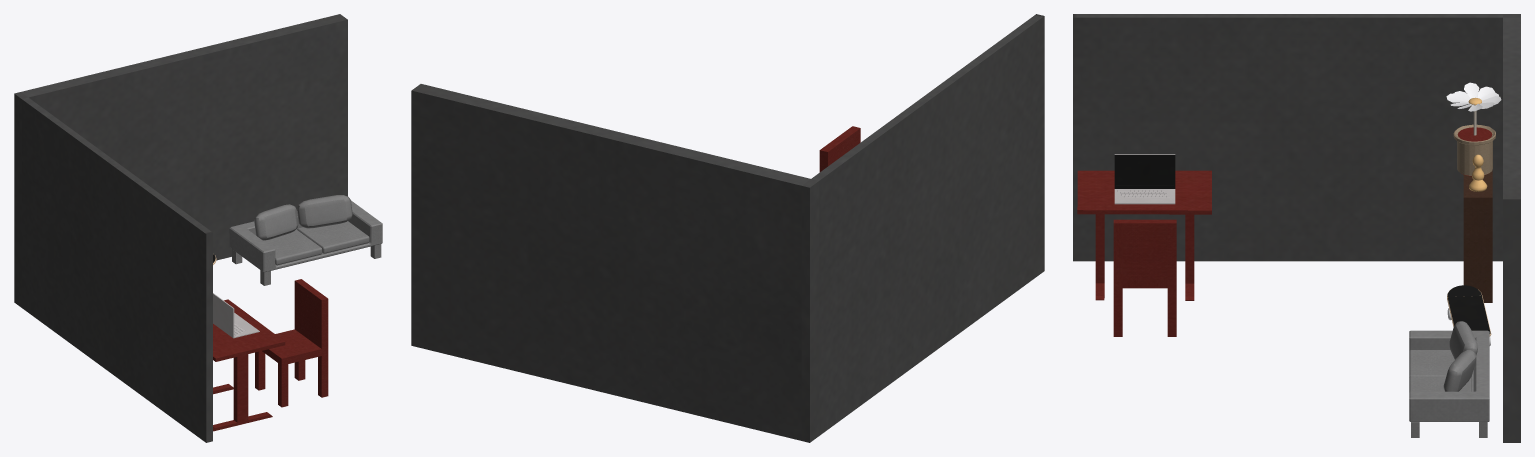
File: RoomScene.fbx
3 renders of one model, left to right at view 1: azimuth 30°, elevation 25°; view 2: azimuth 150°, elevation 25°; view 3: azimuth 270°, elevation 25°, orthographic. The views are drawn at different scales.
Parts seen in each view (by area): view 1: pCube1, mySofa:polySurface7, gamingChair:pCube5, Desk:Desk, Laptop:polySurface95; view 2: pCube1, gamingChair:pCube5; view 3: pCube1, mySofa:polySurface7, Desk:Desk, gamingChair:pCube5, bookShelf2:myBookshelf:pCube1, Laptop:polySurface95, organicProp:plantPot1, Skateboard:Skateboard, chessPiece:gingerbreadMan:revolvedSurface1.
Part boxes in pixels (<box>): pCube1: <box>14,14,347,442</box>; mySofa:polySurface7: <box>229,195,382,285</box>; gamingChair:pCube5: <box>255,279,328,407</box>; Desk:Desk: <box>213,299,285,431</box>; Laptop:polySurface95: <box>213,293,259,338</box>; pCube1: <box>411,14,1044,442</box>; gamingChair:pCube5: <box>819,126,860,172</box>; pCube1: <box>1073,14,1520,442</box>; mySofa:polySurface7: <box>1409,321,1489,437</box>; Desk:Desk: <box>1077,170,1211,300</box>; gamingChair:pCube5: <box>1113,219,1176,336</box>; bookShelf2:myBookshelf:pCube1: <box>1463,170,1492,302</box>; Laptop:polySurface95: <box>1114,154,1175,204</box>; organicProp:plantPot1: <box>1446,82,1501,176</box>; Skateboard:Skateboard: <box>1447,285,1491,345</box>; chessPiece:gingerbreadMan:revolvedSurface1: <box>1469,154,1487,191</box>.
Size of the model in its own units: 24.5 by 15 by 25.
2 materials, 2 textured.
